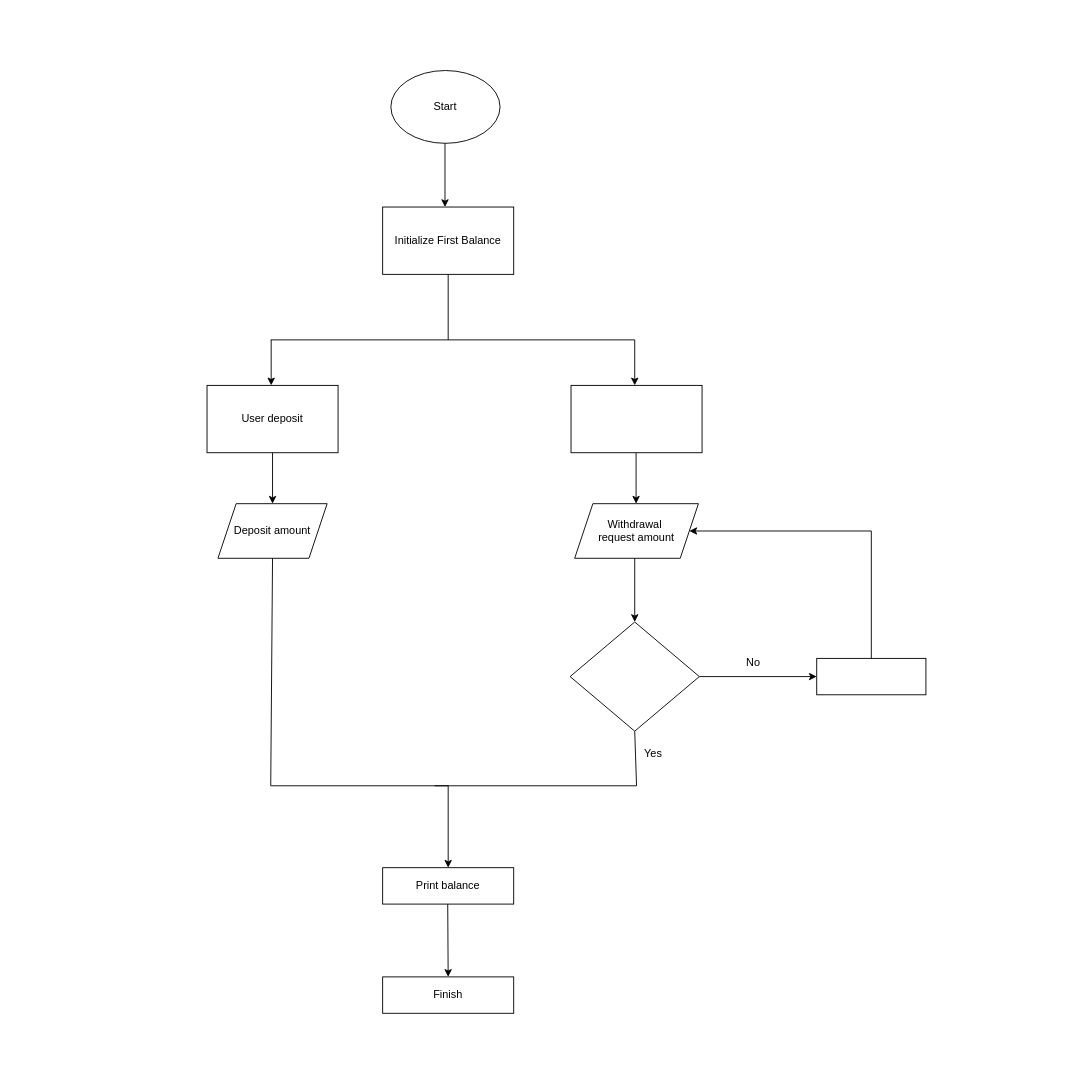
This 1081x1088 diagram has some shape labels left out. Here are the shapes that lost their labels. From the top down, the centre of each, then its label:
At pixel 636 418: "User withdrawal".
At pixel 634 676: "is balance sufficient?".
At pixel 871 676: "Error message".
